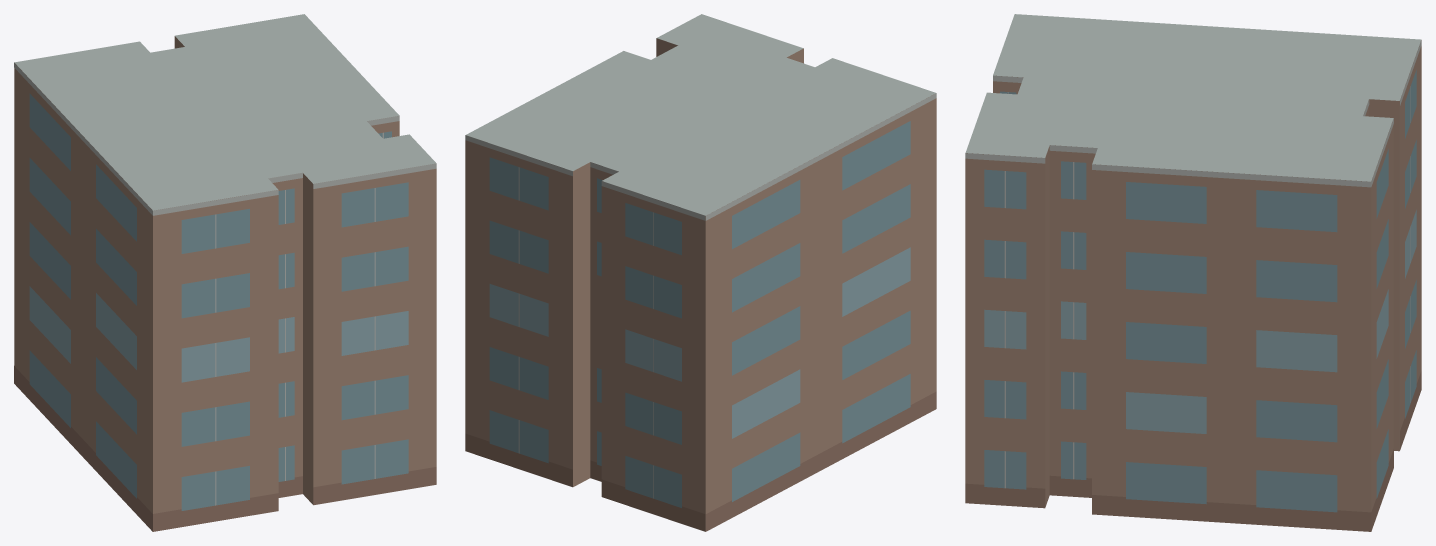
The model's file is survey-upis-32870328.glb.
3 views of the same model, side by side, from view 1: azimuth 30°, elevation 25°; view 2: azimuth 150°, elevation 25°; view 3: azimuth 270°, elevation 25° (orthographic). The views are drawn at different scales.
Visible parts, largest first — view 1: survey-upis-32870328.tmp; view 2: survey-upis-32870328.tmp; view 3: survey-upis-32870328.tmp.
Part boxes in pixels (left/top/right/bottom): survey-upis-32870328.tmp: left=14, top=14, right=436, bottom=531; survey-upis-32870328.tmp: left=465, top=14, right=936, bottom=531; survey-upis-32870328.tmp: left=965, top=14, right=1421, bottom=531.
Size of the model in its own units: 15.41 by 15 by 17.71.
